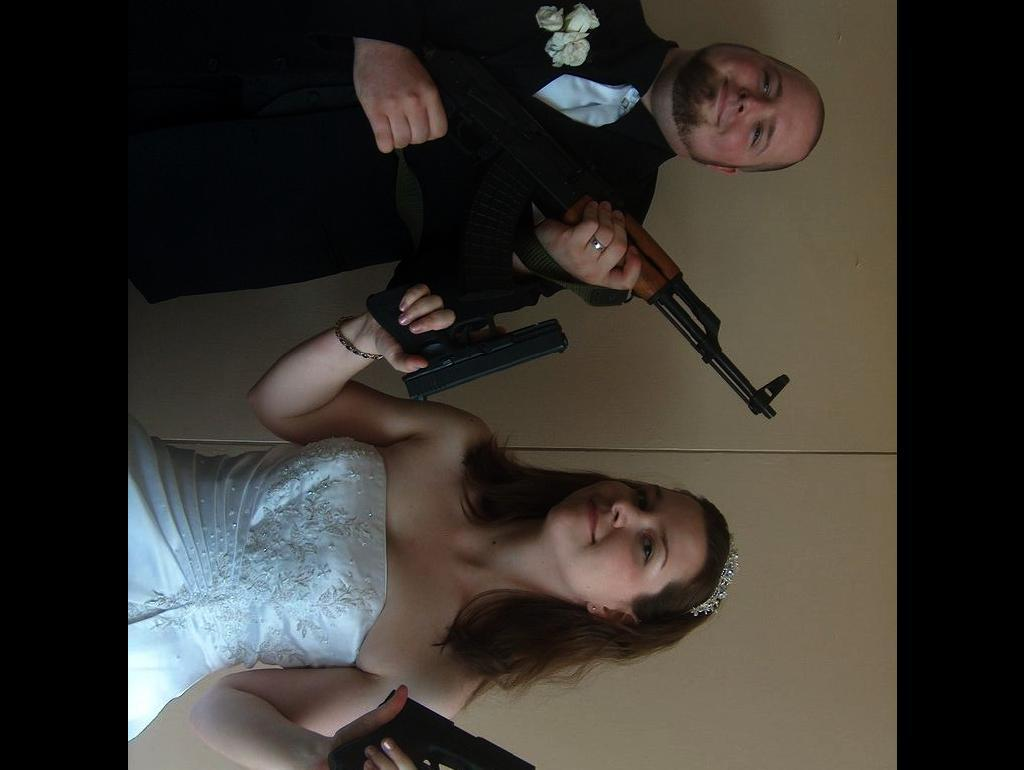gun: (418, 30, 790, 425), (367, 283, 567, 406), (330, 692, 536, 770)
